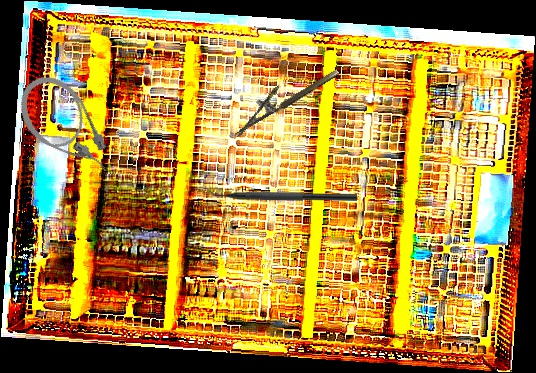Cannula: (6, 63, 123, 194)
Chopper: (204, 183, 357, 201)
Needle Holder: (224, 55, 341, 138)
